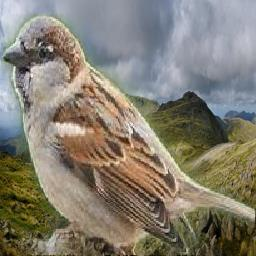Sparrow: (1, 15, 255, 256)
